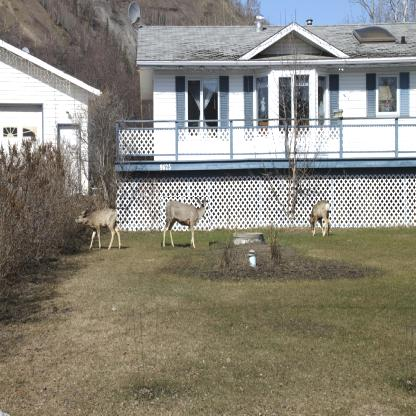Deer: (162, 197, 210, 250), (73, 208, 122, 250), (310, 199, 332, 240)
